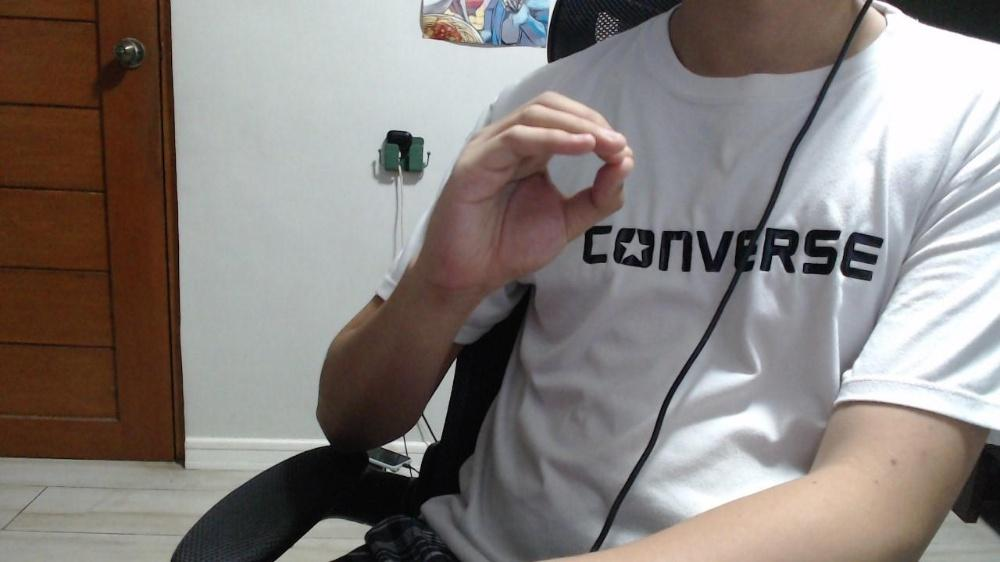o: (434, 90, 631, 278)
